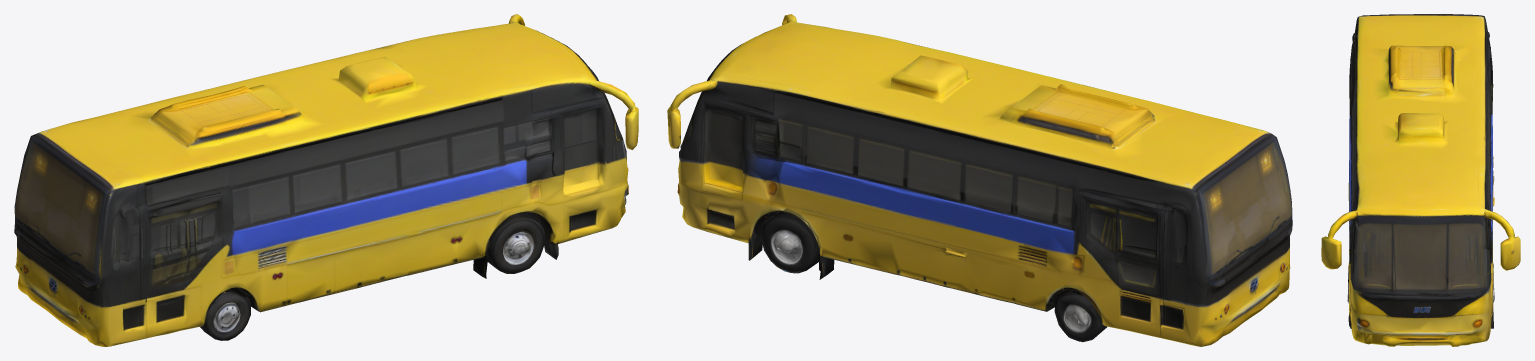
The model's file is result.gltf.
3 renders of one model, left to right at view 1: azimuth 30°, elevation 25°; view 2: azimuth 150°, elevation 25°; view 3: azimuth 270°, elevation 25°, orthographic. The views are drawn at different scales.
Parts seen in each view (by area): view 1: nodes[0]; view 2: nodes[0]; view 3: nodes[0].
Boxes of the visible parts, x1,y1,x2,y2 form: nodes[0]: (14,14,638,346); nodes[0]: (667,14,1292,346); nodes[0]: (1321,14,1520,346).
Size of the model in its own units: 2 by 0.6838 by 0.7752.
Materials: 1 (1 with a texture image).
